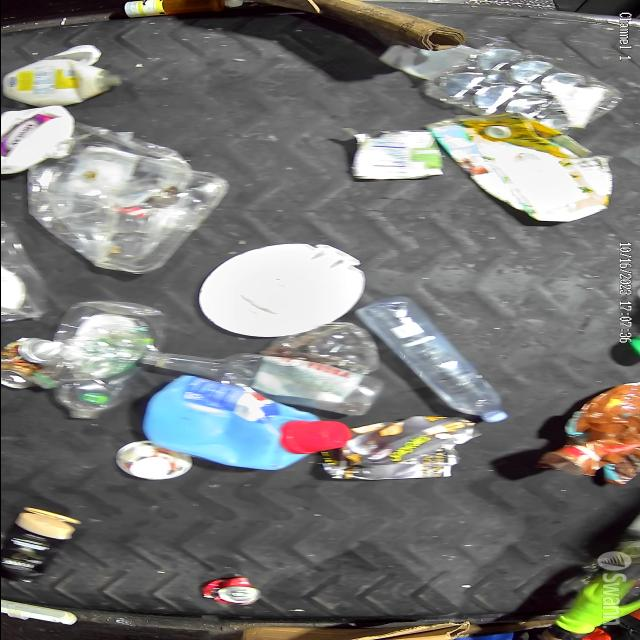can: (0, 335, 43, 390), (192, 576, 262, 606)
non_white_jug: (150, 382, 348, 476)
plastic_bottle: (370, 292, 506, 426), (130, 349, 379, 415)
